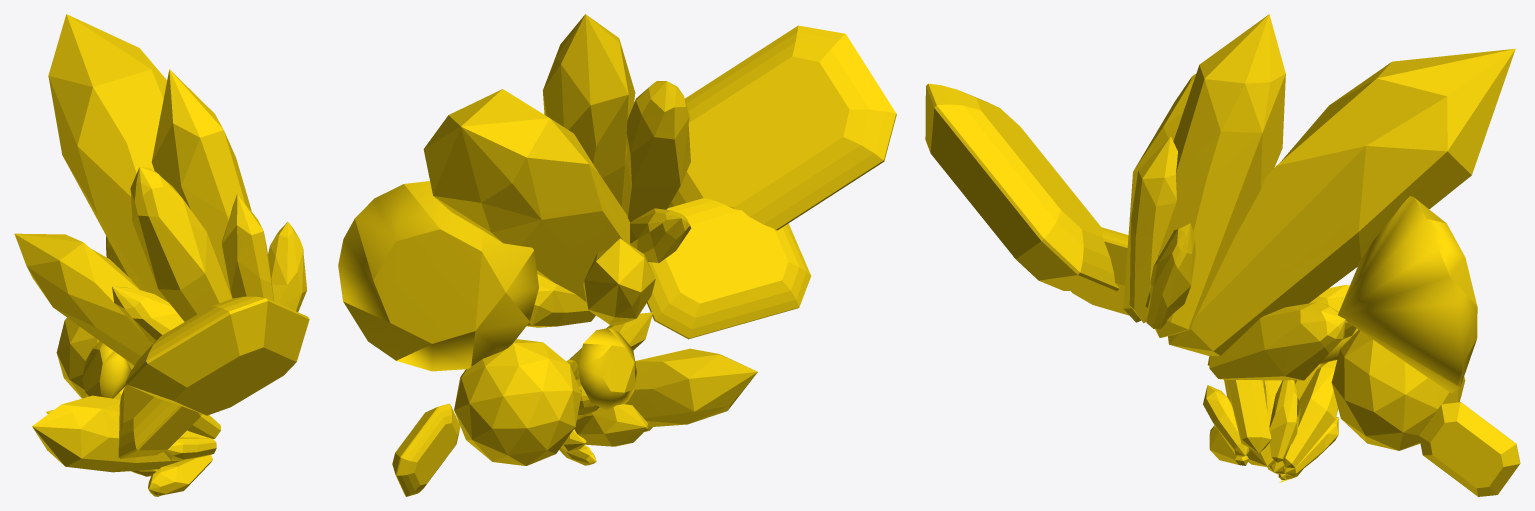
The model's file is add-visual-diamond-5.glb.
The picture shows the model from 3 angles, left to right: view 1: azimuth 30°, elevation 25°; view 2: azimuth 150°, elevation 25°; view 3: azimuth 270°, elevation 25°; orthographic projection. The views are drawn at different scales.
Parts seen in each view (by area): view 1: 球体.020; view 2: 球体.020; view 3: 球体.020.
Boxes of the visible parts, x1,y1,x2,y2 form: 球体.020: (14, 14, 309, 496); 球体.020: (338, 14, 896, 496); 球体.020: (925, 14, 1520, 496).
Bounding box in the file's own units: 2.93 × 3.73 × 4.34.
